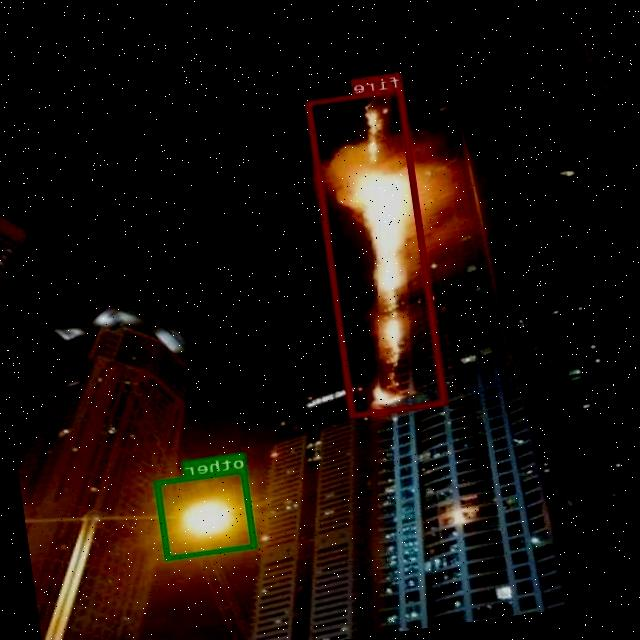fire: (307, 87, 448, 417)
